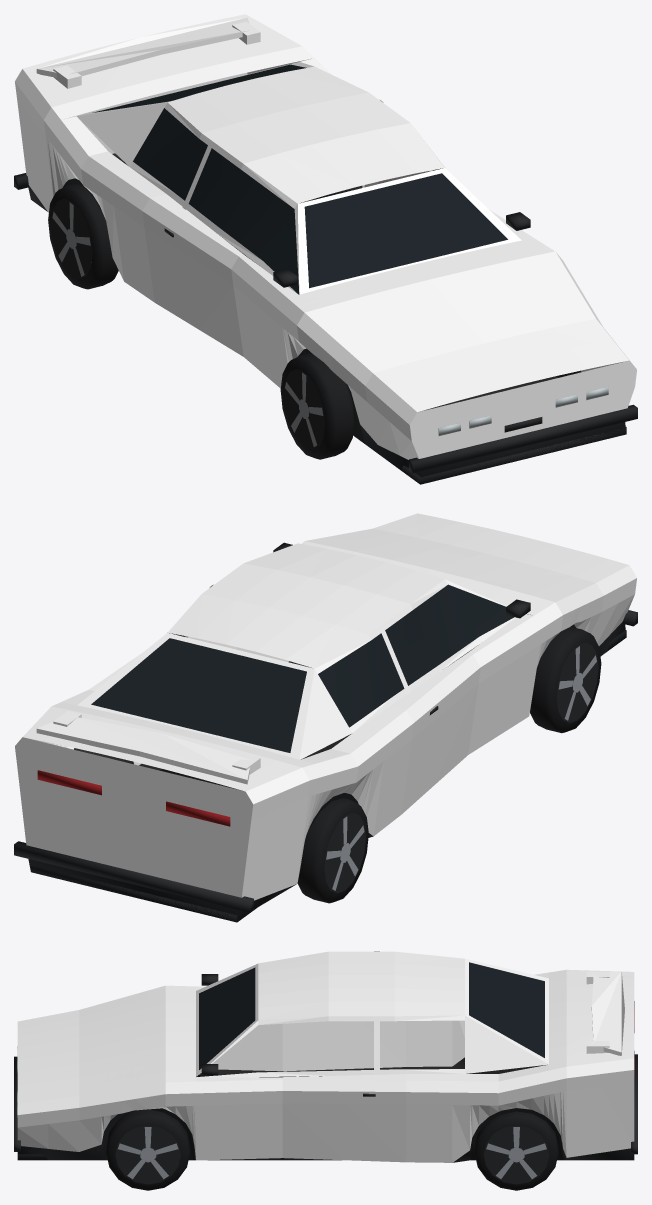
File: garrison_trovao.glb
3 renders of one model, top to bottom at view 1: azimuth 30°, elevation 25°; view 2: azimuth 150°, elevation 25°; view 3: azimuth 270°, elevation 25°, orthographic. The views are drawn at different scales.
Parts seen in each view (by area): view 1: Body_Paint, Body_Details, Mount_FrontLeft_Wheel_Details, Mount_RearLeft_Wheel_Details; view 2: Body_Paint, Body_Details, Mount_FrontLeft_Wheel_Details, Mount_RearLeft_Wheel_Details; view 3: Body_Paint, Body_Details, Mount_FrontRight_Wheel_Details, Mount_RearRight_Wheel_Details.
Part boxes in pixels (x1=…): Body_Paint: x1=15, y1=14, x2=636, y2=459; Body_Details: x1=14, y1=64, x2=637, y2=484; Mount_FrontLeft_Wheel_Details: x1=280, y1=353, x2=354, y2=459; Mount_RearLeft_Wheel_Details: x1=48, y1=183, x2=118, y2=289; Body_Paint: x1=15, y1=513, x2=636, y2=900; Body_Details: x1=14, y1=542, x2=637, y2=922; Mount_FrontLeft_Wheel_Details: x1=530, y1=626, x2=601, y2=733; Mount_RearLeft_Wheel_Details: x1=297, y1=798, x2=368, y2=903; Body_Paint: x1=17, y1=951, x2=634, y2=1162; Body_Details: x1=14, y1=962, x2=637, y2=1162; Mount_FrontRight_Wheel_Details: x1=106, y1=1109, x2=190, y2=1190; Mount_RearRight_Wheel_Details: x1=474, y1=1111, x2=558, y2=1190.
Size of the model in its own units: 1.99 by 1.37 by 4.89.
2 materials, 1 textured.
